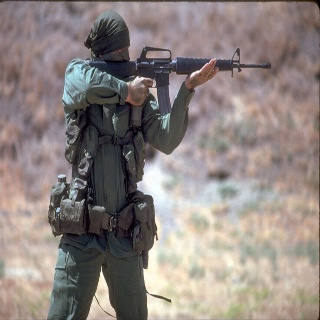rifle: (87, 46, 271, 119)
